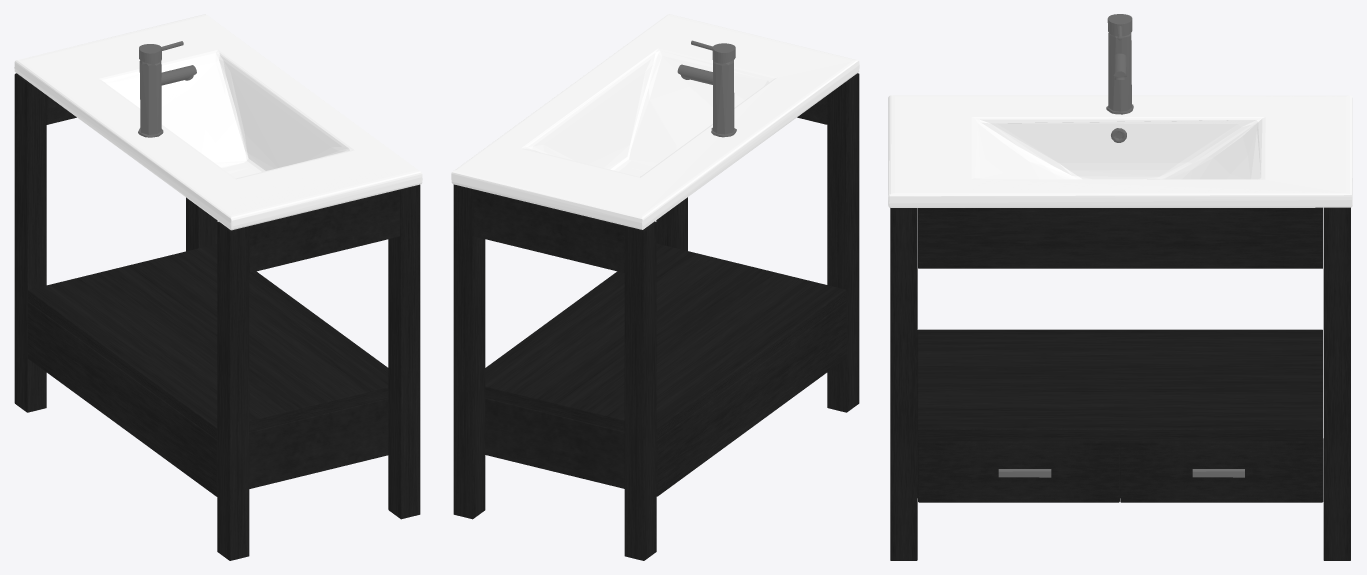
File: M8817-MUEBLE-NEGRO.glb
3 renders of one model, left to right at view 1: azimuth 30°, elevation 25°; view 2: azimuth 150°, elevation 25°; view 3: azimuth 270°, elevation 25°, orthographic. The views are drawn at different scales.
Parts seen in each view (by area): view 1: ChamferBox003, Box001, Cylinder001; view 2: ChamferBox003, Box001, Cylinder001; view 3: ChamferBox003, Box001, Cylinder001, Cylinder002.
Part boxes in pixels (x1=…): ChamferBox003: x1=14, y1=73, x2=420, y2=560; Box001: x1=14, y1=14, x2=422, y2=230; Cylinder001: x1=138, y1=60, x2=163, y2=137; ChamferBox003: x1=453, y1=73, x2=859, y2=560; Box001: x1=451, y1=14, x2=859, y2=229; Cylinder001: x1=711, y1=59, x2=736, y2=137; ChamferBox003: x1=890, y1=207, x2=1350, y2=560; Box001: x1=888, y1=95, x2=1352, y2=207; Cylinder001: x1=1106, y1=33, x2=1133, y2=114; Cylinder002: x1=998, y1=128, x2=1244, y2=477.
Size of the model in its own units: 0.5031 by 1.05 by 0.9657.
3 materials, 1 textured.
